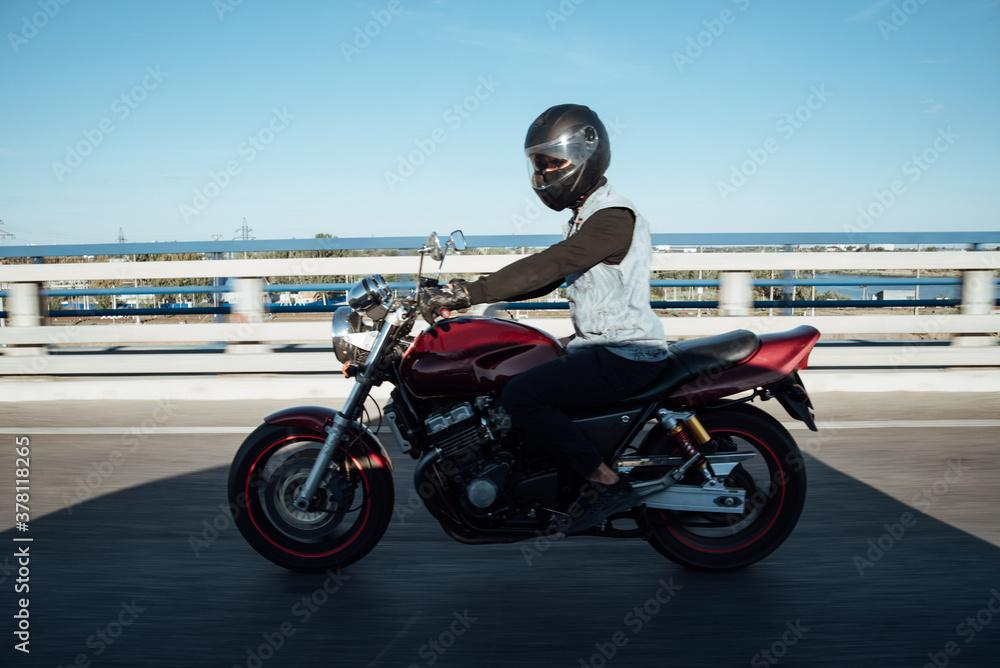helmet: (523, 103, 612, 213)
